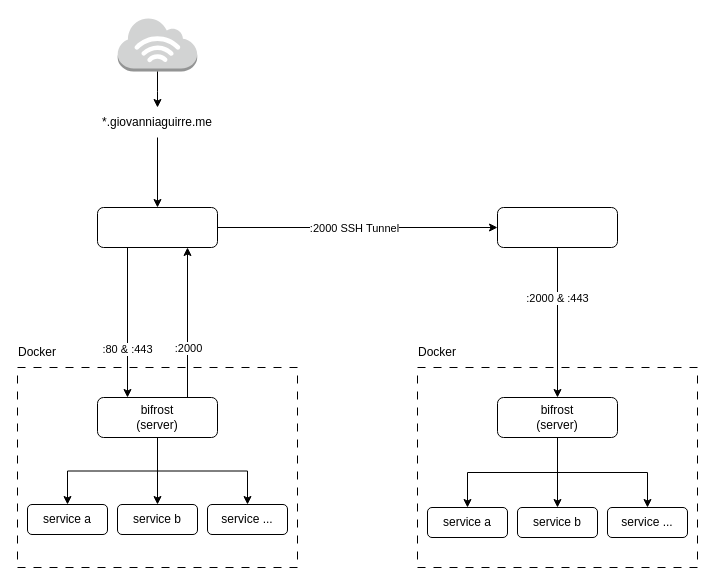
This 715x585 diagram has some shape labels left out. Each missing label, with the centre of its shape:
r1 host: point (157, 227)
rbx host: point (557, 227)
